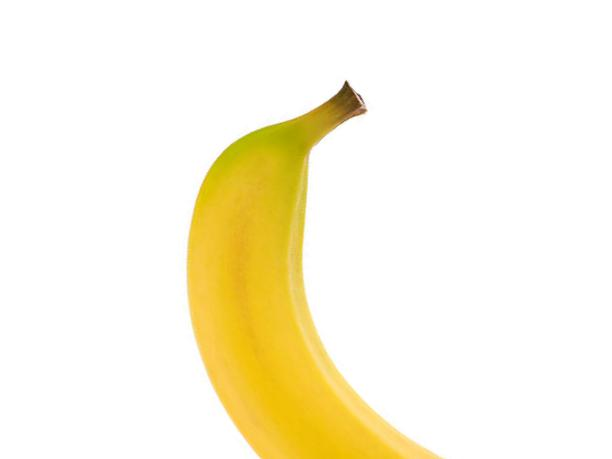banana: (185, 79, 452, 459)
